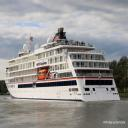cruises: (5, 27, 122, 105)
